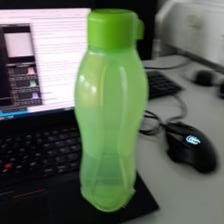bottle: (69, 7, 150, 212)
